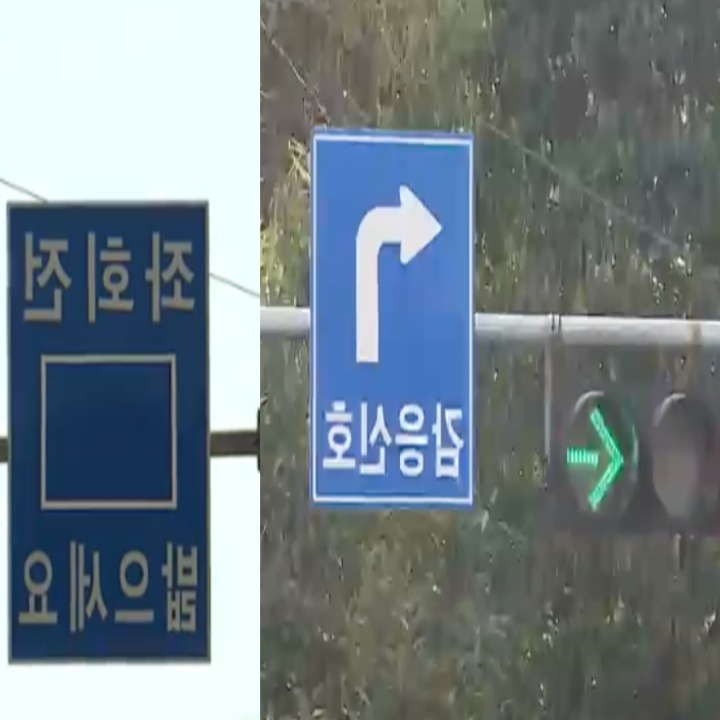right: (346, 173, 452, 375)
